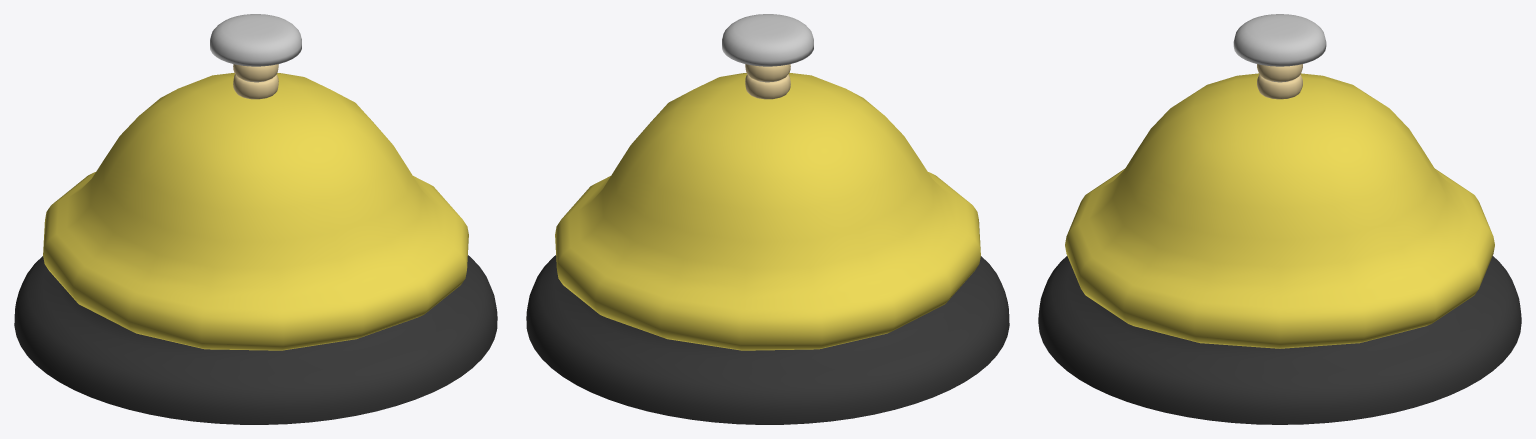
File: Ring.fbx
The picture shows the model from 3 angles, left to right: view 1: azimuth 30°, elevation 25°; view 2: azimuth 150°, elevation 25°; view 3: azimuth 270°, elevation 25°; orthographic projection.
Parts seen in each view (by area): view 1: Torus.001; view 2: Torus.001; view 3: Torus.001.
Part boxes in pixels (left/top/right/bottom): Torus.001: left=14, top=14, right=497, bottom=424; Torus.001: left=526, top=14, right=1009, bottom=424; Torus.001: left=1038, top=14, right=1521, bottom=424.
Size of the model in its own units: 0.218 by 0.1472 by 0.218.
